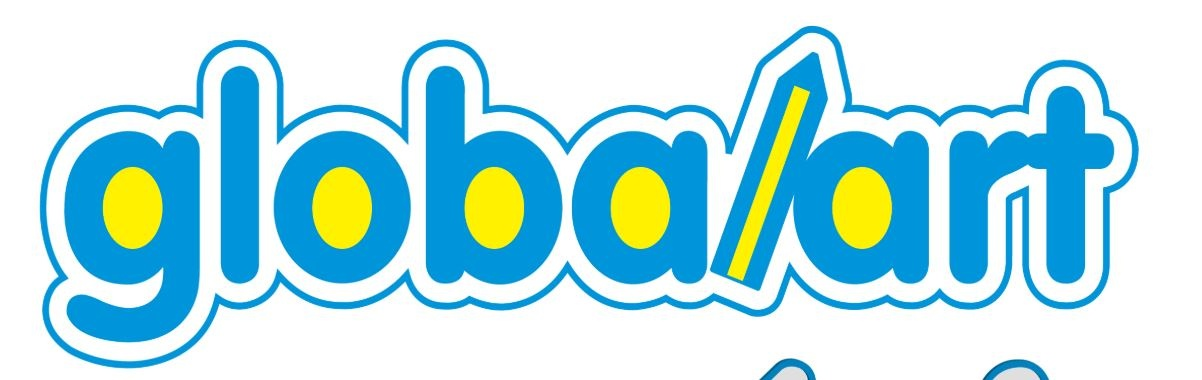signboard_piece: (33, 14, 1143, 341)
